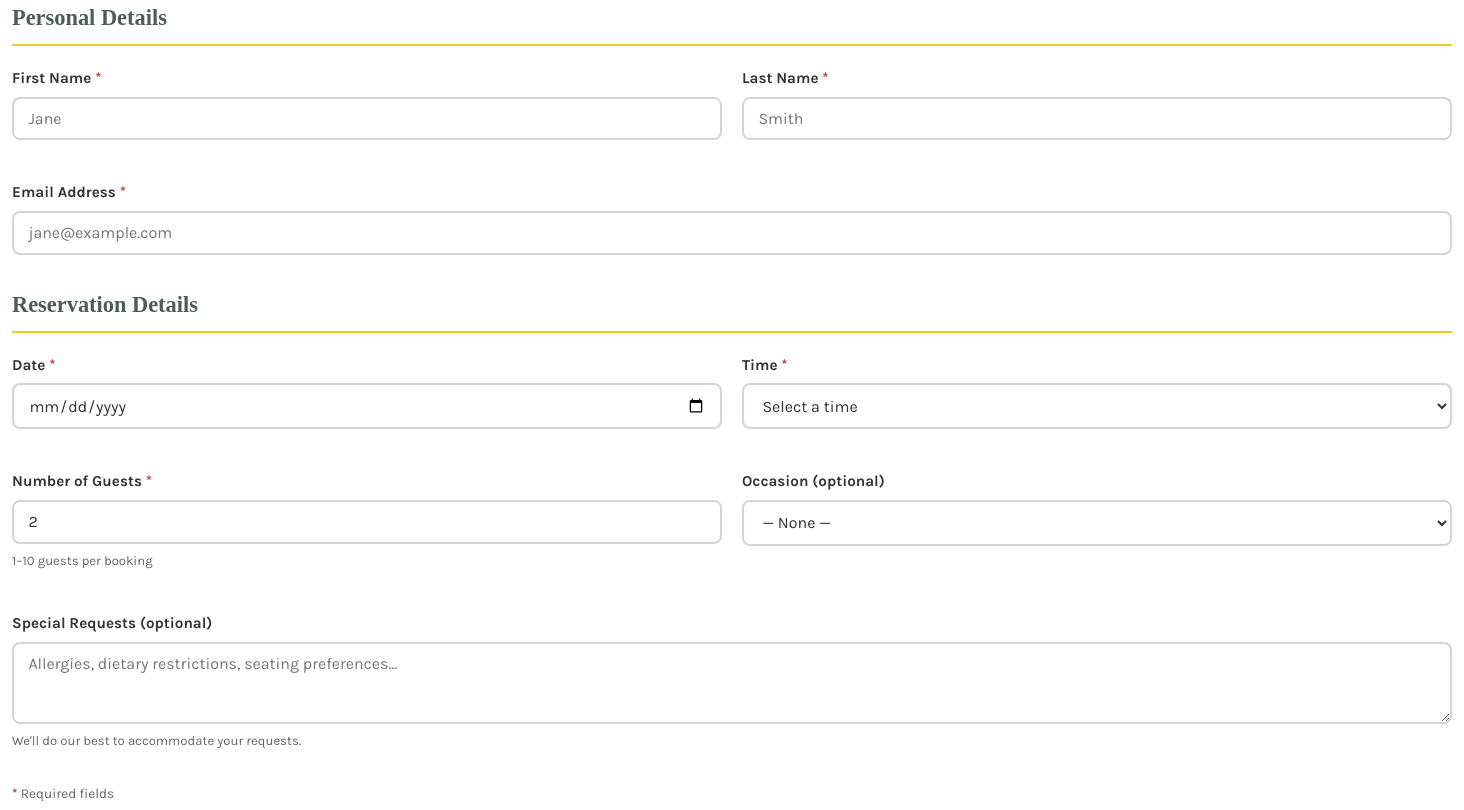
Test: BookingForm validation › shows error for invalid email
The width and height of the screenshot is (1464, 810).
In the field labelled "Email Address *": point(732, 233) [12,211,1452,255], type "notvalid"
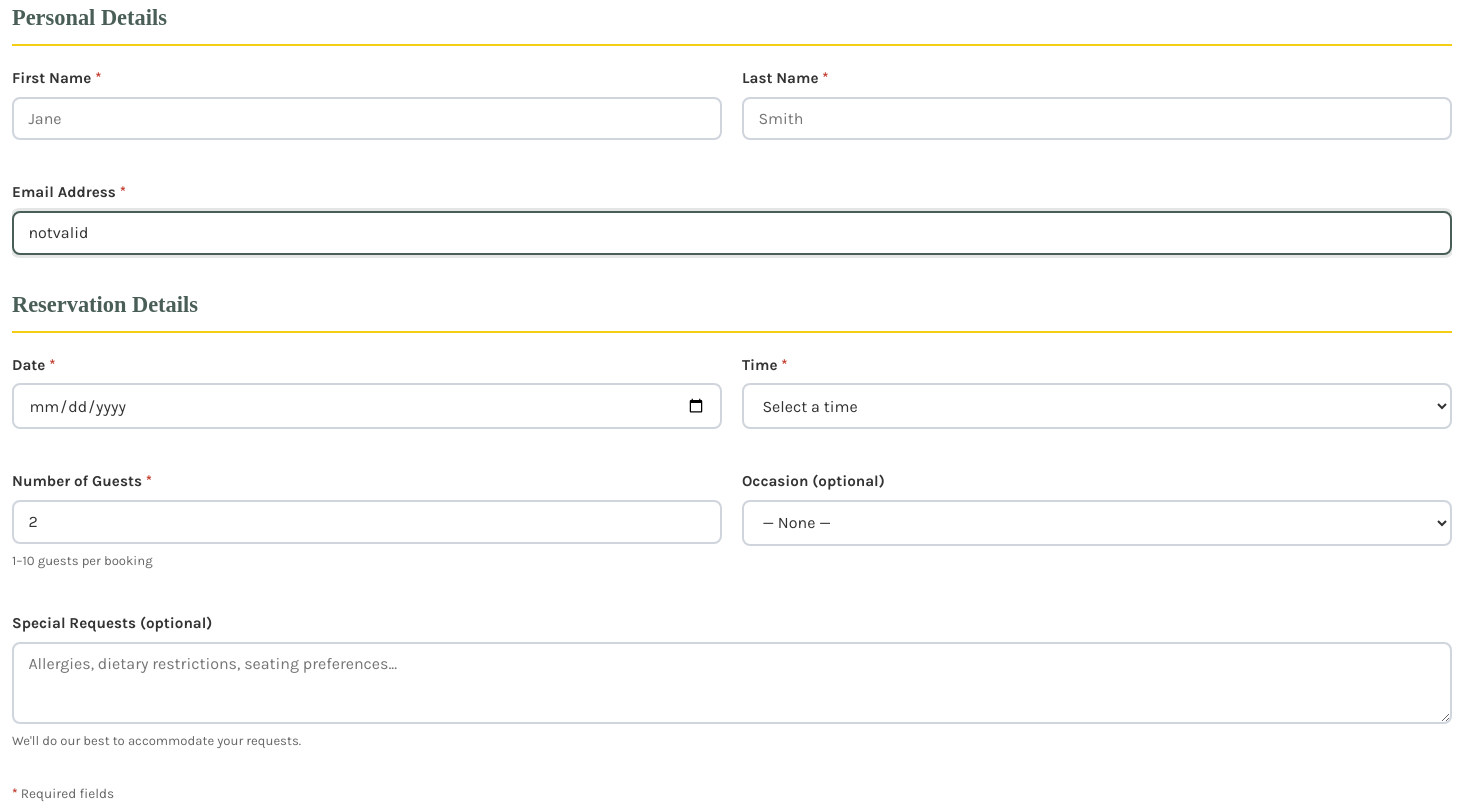
Leave the field labelled "Email Address *", box [12,211,1452,255]
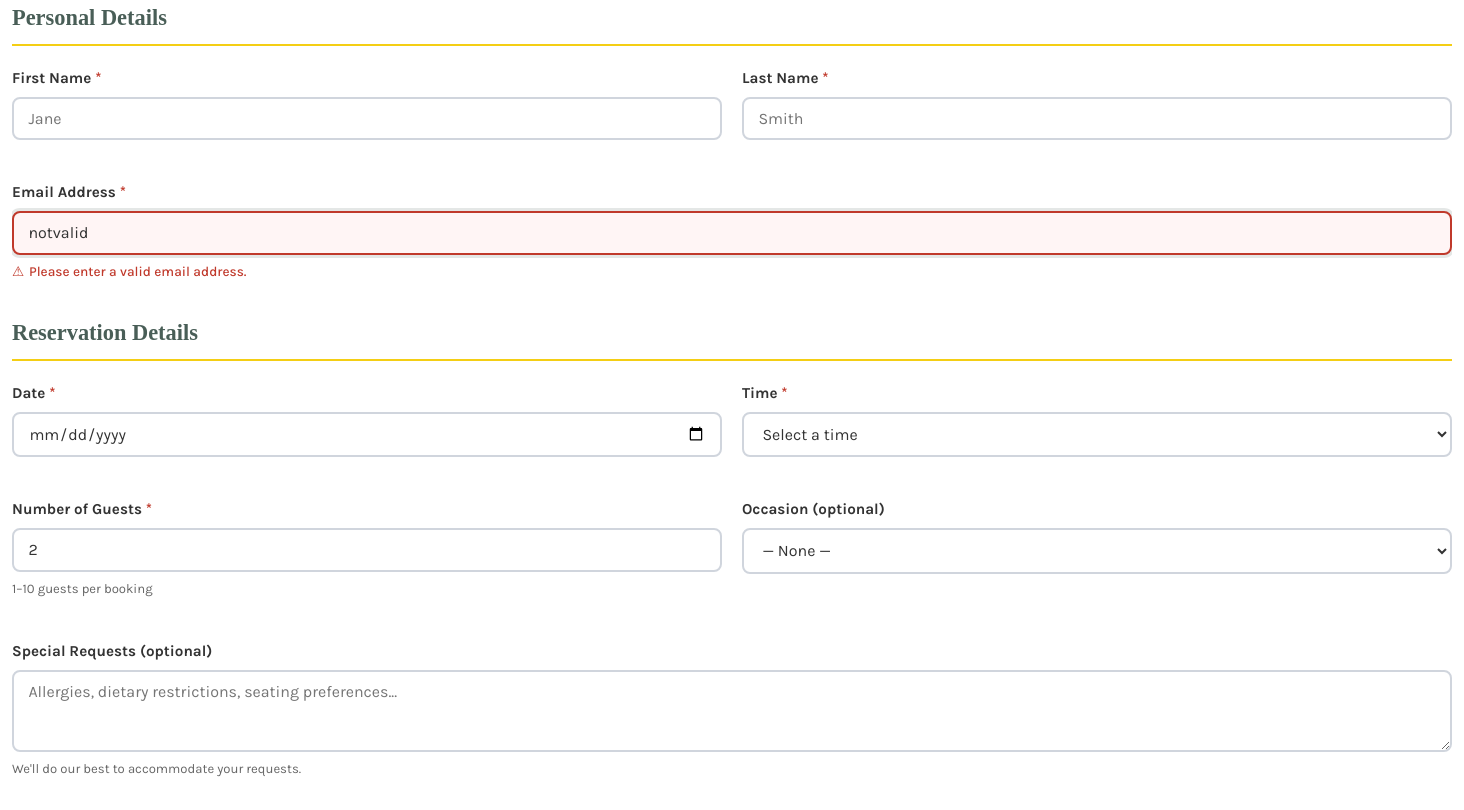
expect the text "Please enter a valid email address." is shown: met, box [29,264,246,279]
